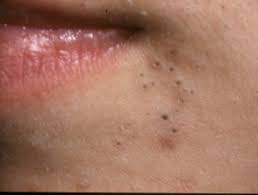jerawat: (128, 40, 201, 154)
